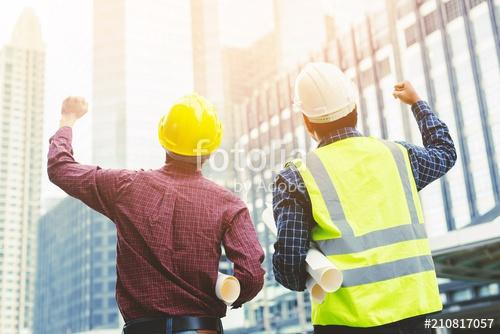helmet: (159, 97, 223, 157), (297, 61, 358, 123)
